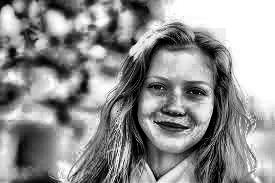happy: (132, 28, 226, 183)
